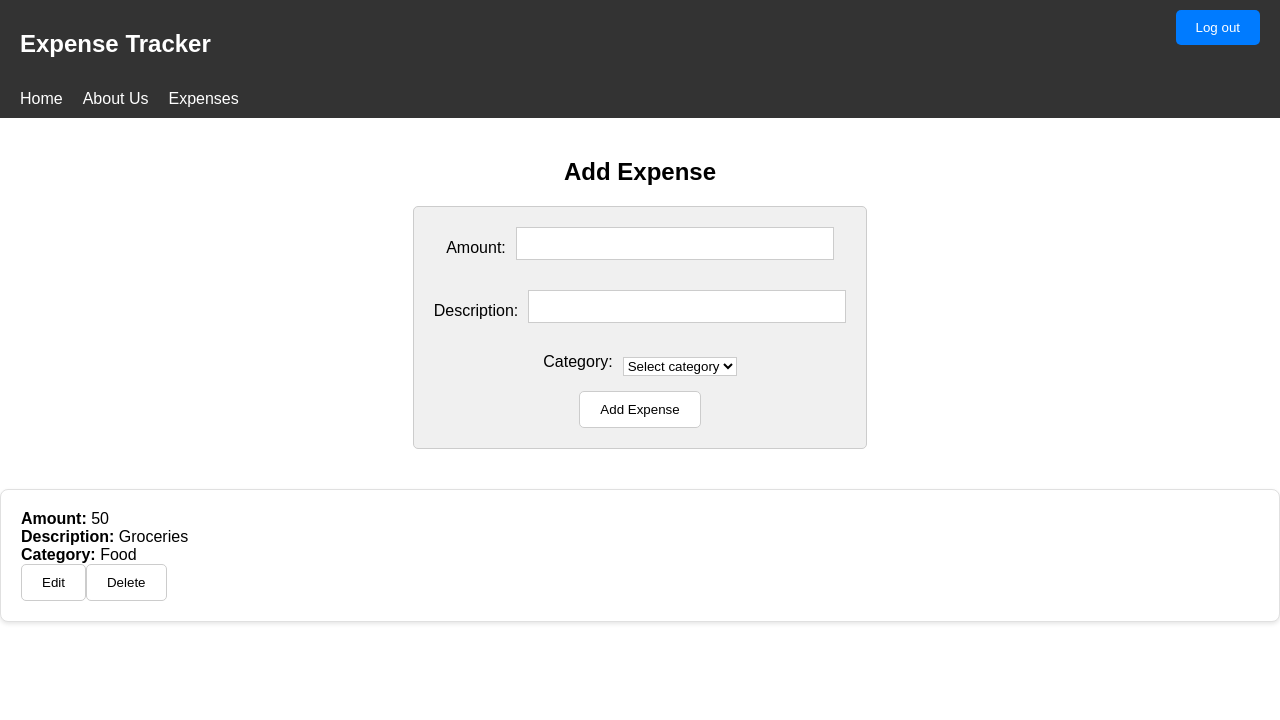
Test case: Expenses component › deletes an expense
Expected: the text "Description: Groceries" is shown, [21,528,188,545]
Step 1. Click the button "Delete" → {"x": 126, "y": 582}, box [86,564,166,601]
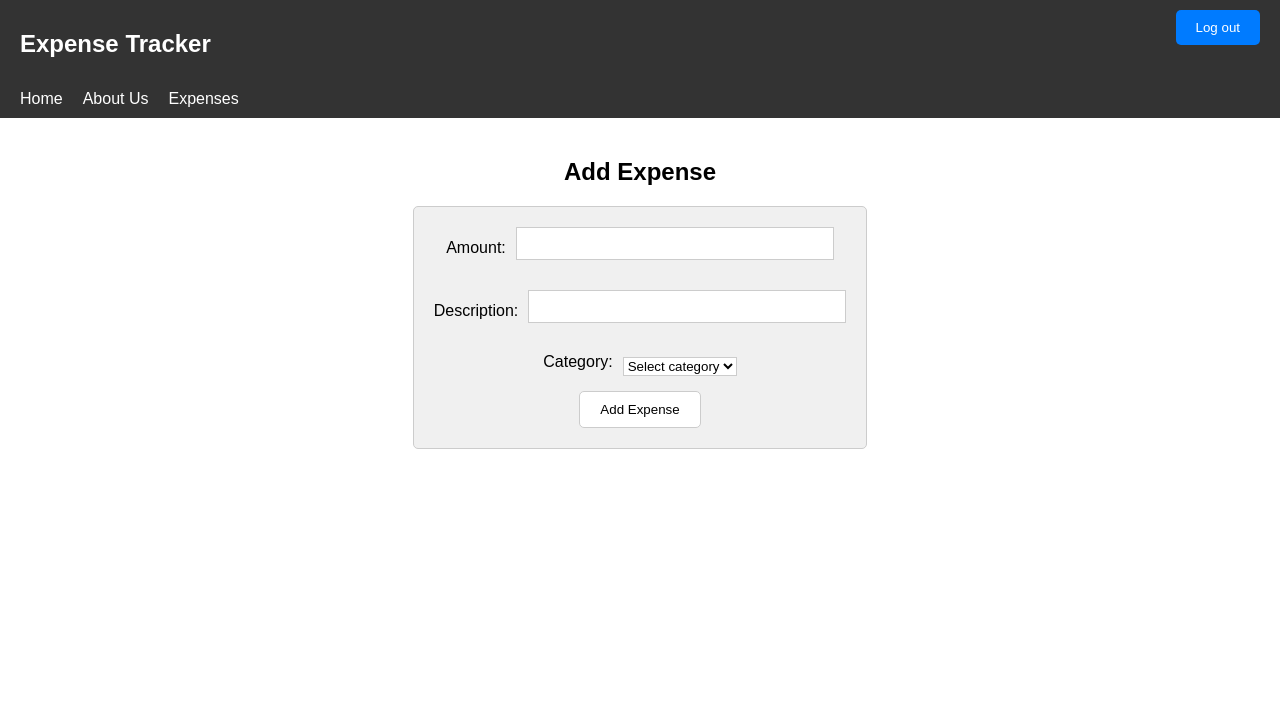
Result: the text "Groceries" is gone
